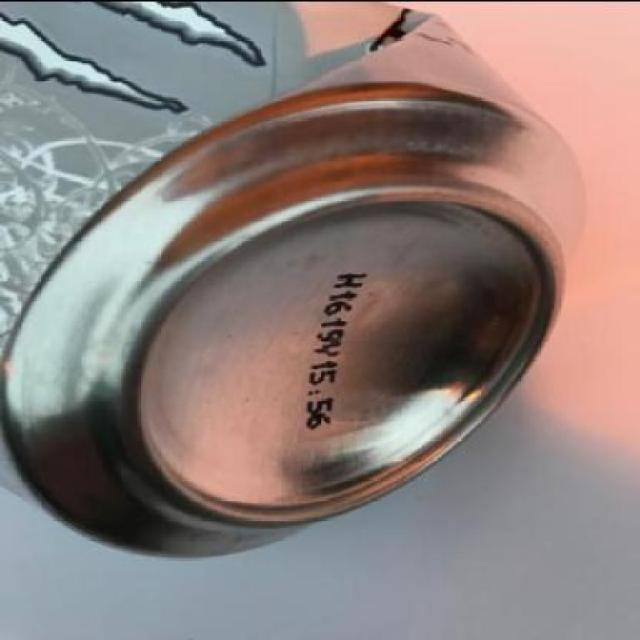METAL: (2, 1, 590, 558)
